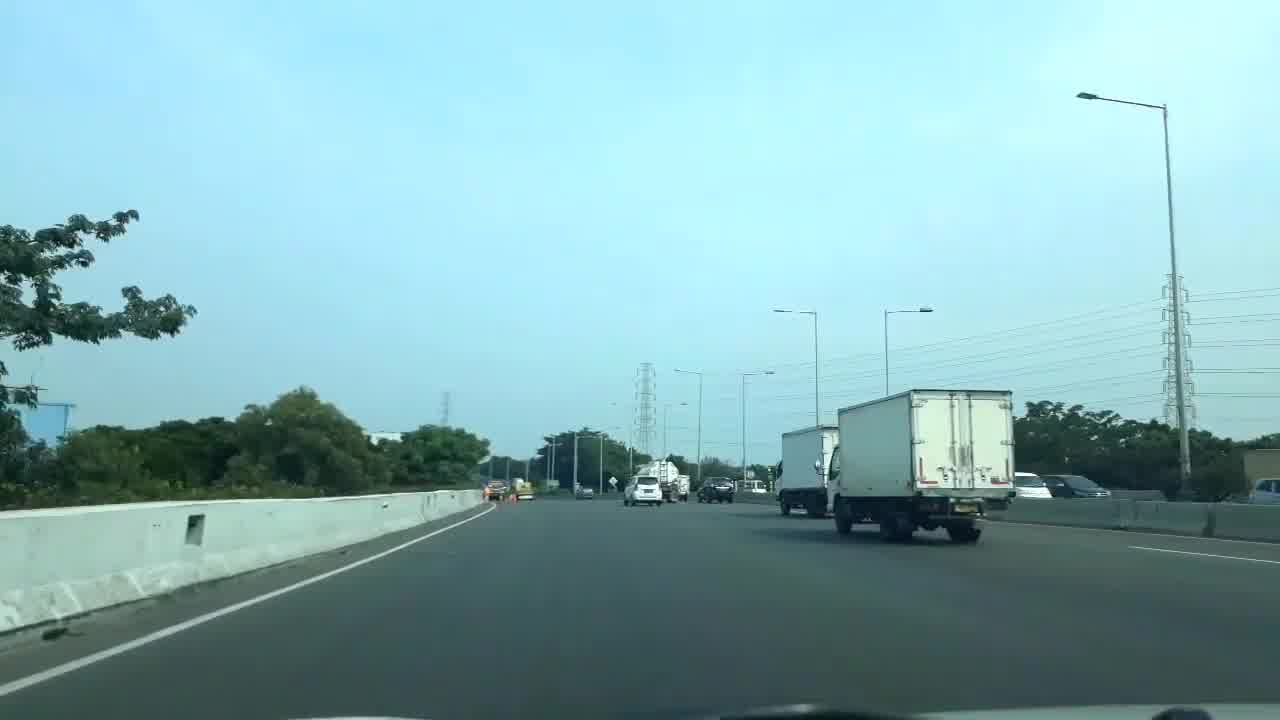plate_positive: (953, 503, 979, 513), (644, 489, 654, 493)
